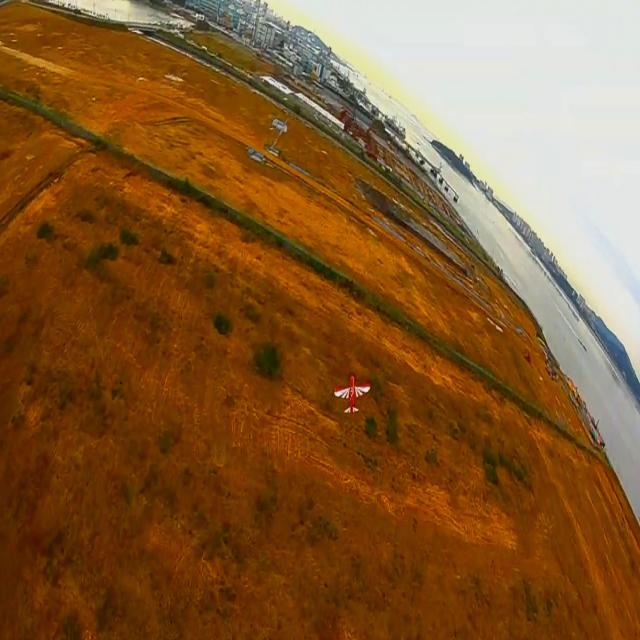iha: (334, 367, 371, 411)
